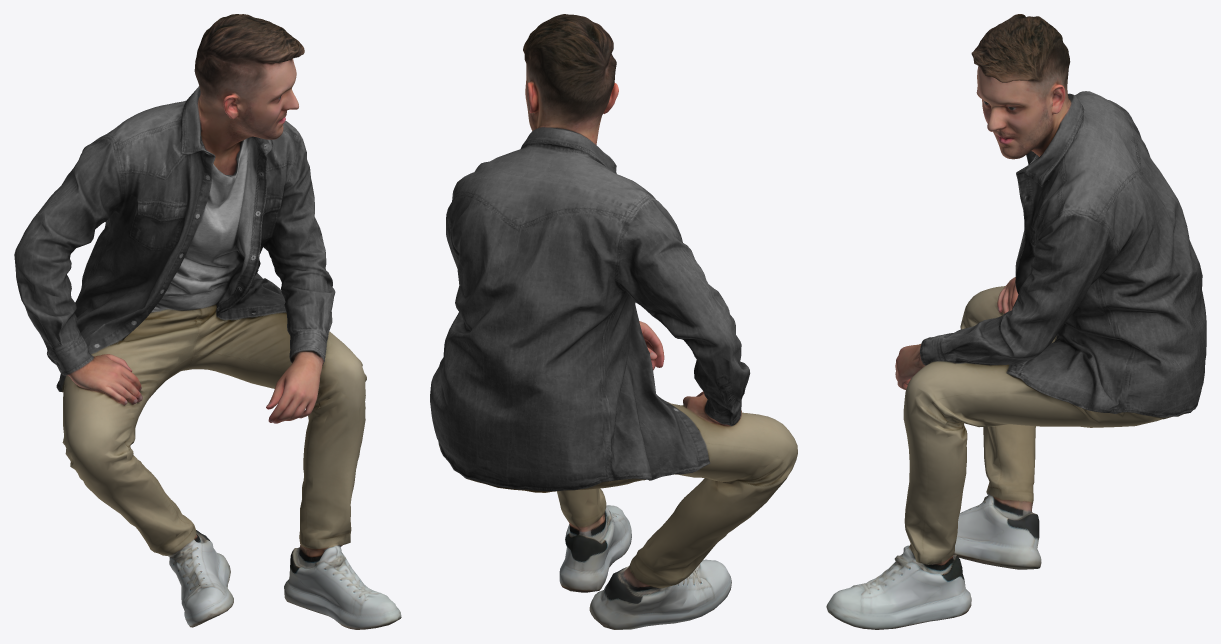
The model's file is Humano_Posed_0341842-Man_01_LOD1.fbx.
3 views of the same model, side by side, from view 1: azimuth 30°, elevation 25°; view 2: azimuth 150°, elevation 25°; view 3: azimuth 270°, elevation 25° (orthographic). The views are drawn at different scales.
Visible parts, largest first — view 1: Humano_Posed_0341842-Man_01_LOD1; view 2: Humano_Posed_0341842-Man_01_LOD1; view 3: Humano_Posed_0341842-Man_01_LOD1.
Part boxes in pixels (<box>): Humano_Posed_0341842-Man_01_LOD1: <box>14,14,401,629</box>; Humano_Posed_0341842-Man_01_LOD1: <box>430,14,797,629</box>; Humano_Posed_0341842-Man_01_LOD1: <box>826,14,1206,629</box>.
Bounding box in the file's own units: 69.46 × 134 × 80.14.
1 material, 1 textured.
